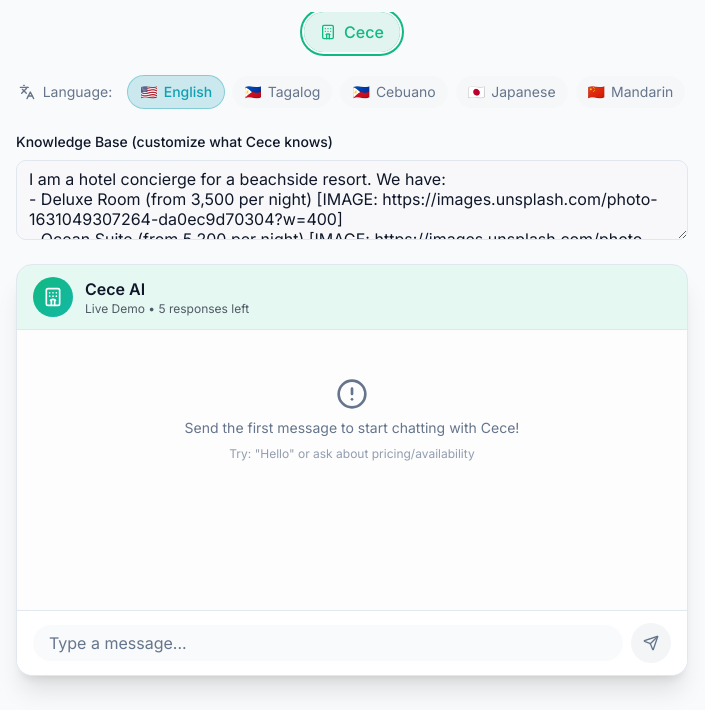
Test: AITestChat › shows retry guidance for retryable demo failures
Type "Do you have rooms available?" into the field with placeholder "Type a message..." at (328, 643), box x1=33 y1=625 x2=623 y2=661
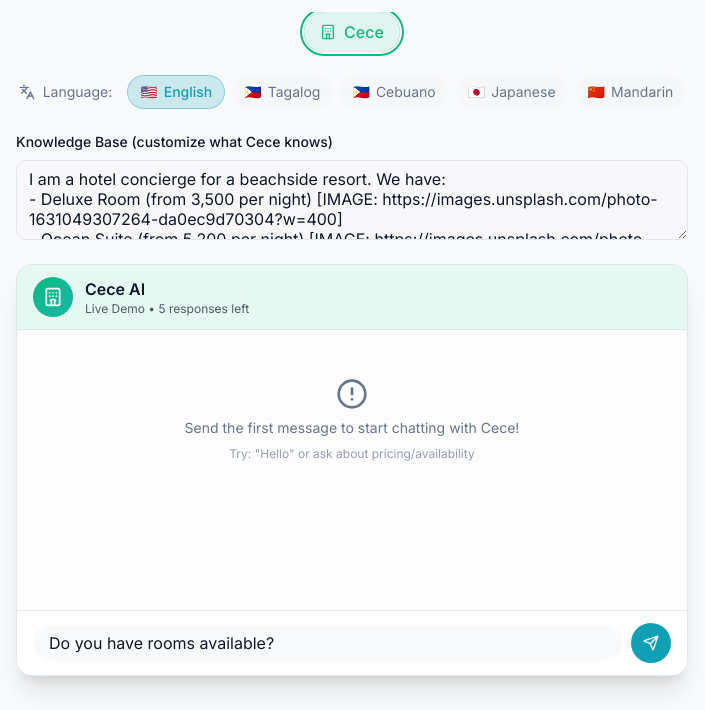
Click the button named "send message" at (651, 643), box x1=631 y1=623 x2=671 y2=663
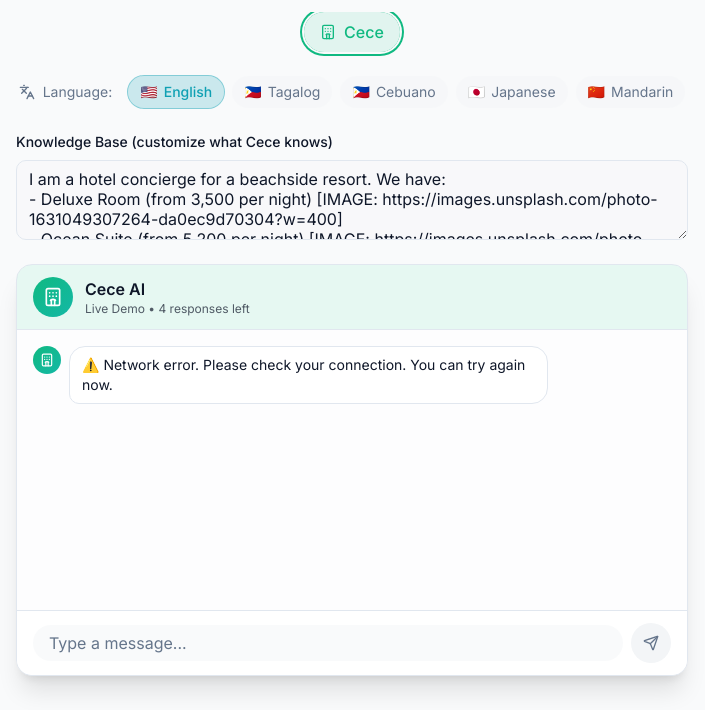
Expected: the text "Do you have rooms available?" is not shown
Result: the text "You can try again now" is shown at x1=82 y1=356 x2=525 y2=393
